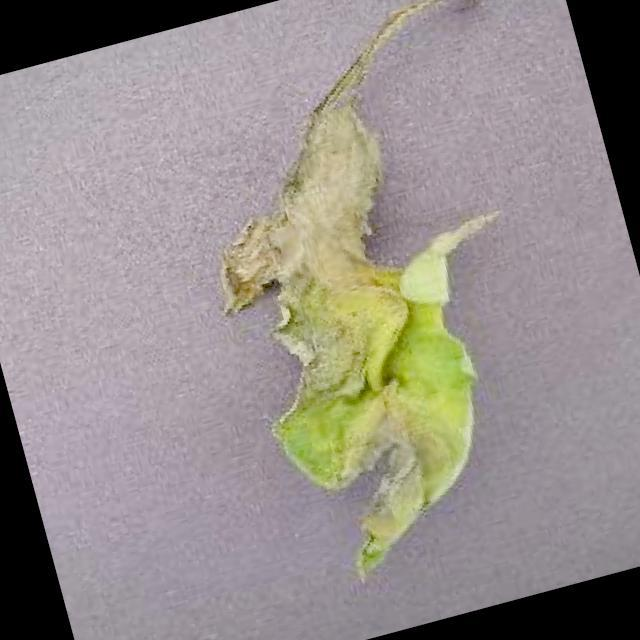Tomato late blight leaf: (153, 0, 629, 603)
